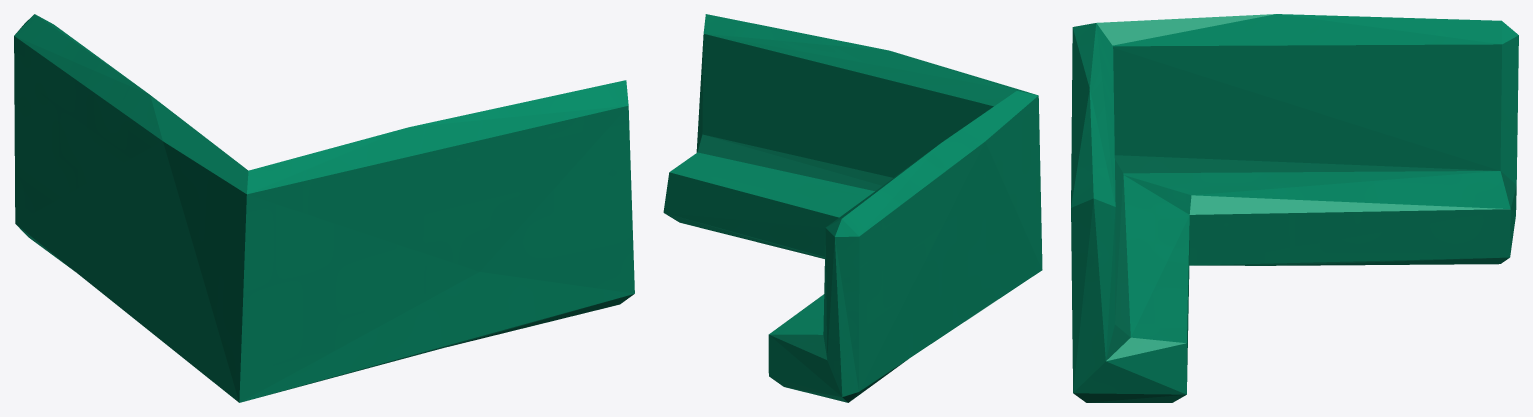
Rendered from ml_couch_remodel.glb.
3 renders of one model, left to right at view 1: azimuth 30°, elevation 25°; view 2: azimuth 150°, elevation 25°; view 3: azimuth 270°, elevation 25°, orthographic. The views are drawn at different scales.
Visible parts, largest first — view 1: Cube.002; view 2: Cube.002; view 3: Cube.002.
Part boxes in pixels (x1,y1,x2,y2): Cube.002: (14, 14, 634, 402); Cube.002: (663, 14, 1042, 402); Cube.002: (1071, 14, 1518, 402).
Bounding box in the file's own units: 11.46 × 6.15 × 11.5.
1 material, 1 textured.
